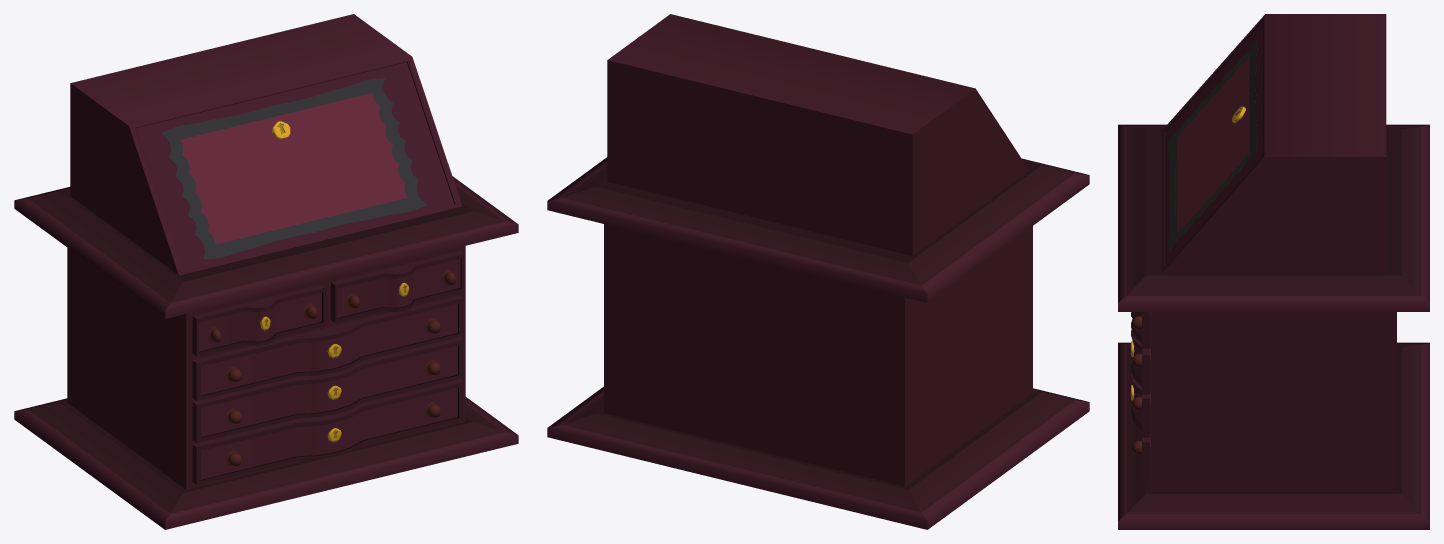
File: Comoda(1).fbx
3 views of the same model, side by side, from view 1: azimuth 30°, elevation 25°; view 2: azimuth 150°, elevation 25°; view 3: azimuth 270°, elevation 25° (orthographic). The views are drawn at different scales.
Visible parts, largest first — view 1: Base, Tampa, Gaveta 3, Gaveta 1, Gaveta 2, Gaveta 4, Gaveta 5; view 2: Base; view 3: Base, Tampa, Gaveta 1, Gaveta 2, Gaveta 3, Gaveta 5.
Boxes of the visible parts, bbox=[...] form: Base: bbox=[14, 14, 518, 529]; Tampa: bbox=[136, 62, 454, 270]; Gaveta 3: bbox=[192, 295, 463, 400]; Gaveta 1: bbox=[192, 379, 463, 484]; Gaveta 2: bbox=[192, 337, 463, 442]; Gaveta 4: bbox=[192, 284, 325, 356]; Gaveta 5: bbox=[330, 251, 463, 322]; Base: bbox=[547, 14, 1089, 529]; Base: bbox=[1118, 14, 1429, 529]; Tampa: bbox=[1165, 22, 1262, 266]; Gaveta 1: bbox=[1131, 373, 1150, 481]; Gaveta 2: bbox=[1131, 329, 1150, 437]; Gaveta 3: bbox=[1131, 319, 1150, 394]; Gaveta 5: bbox=[1131, 312, 1150, 348].
Size of the model in its own units: 118 by 110 by 87.18.
4 materials, 4 textured.
